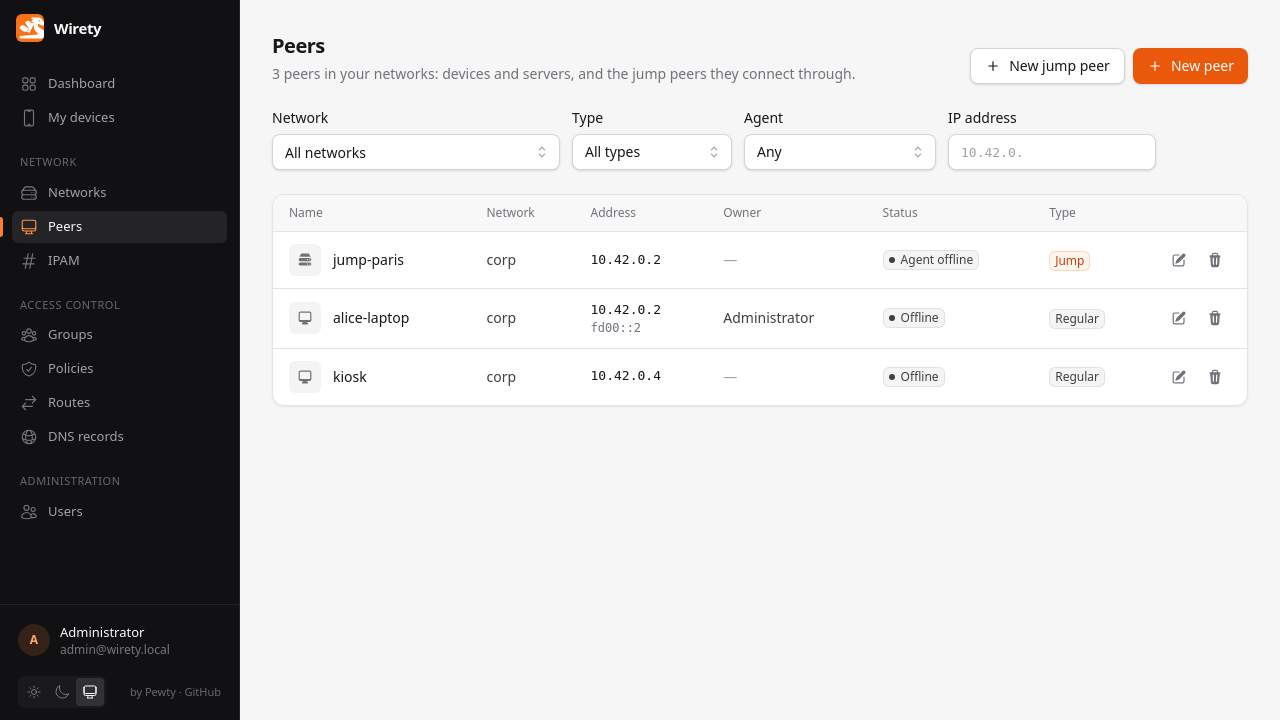
Test: Peer details › disables the configuration of a peer without owner
Click the text "kiosk" at (350, 377), box [333, 367, 367, 387]
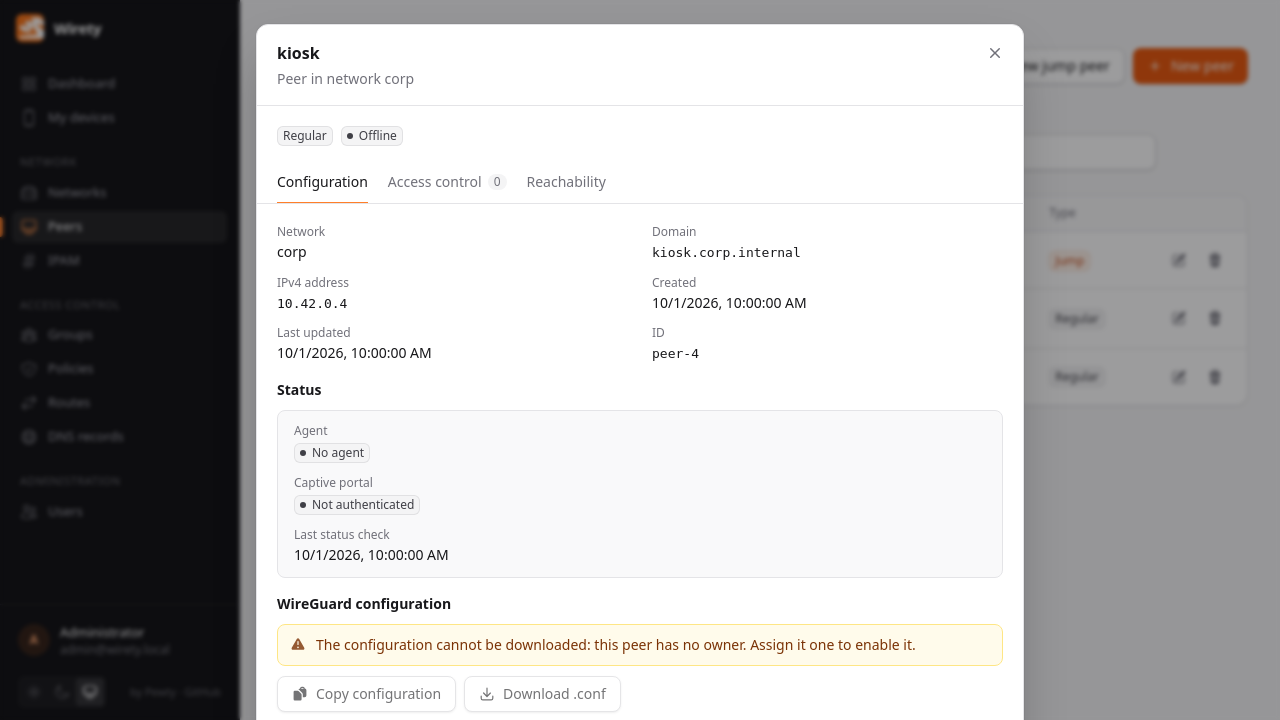
Expected: the text "this peer has no owner" is shown, [316, 635, 916, 654]
Expected: the button "Copy configuration" is disabled, [277, 676, 456, 712]
Expected: the button "Download .conf" is disabled, [464, 676, 621, 712]
